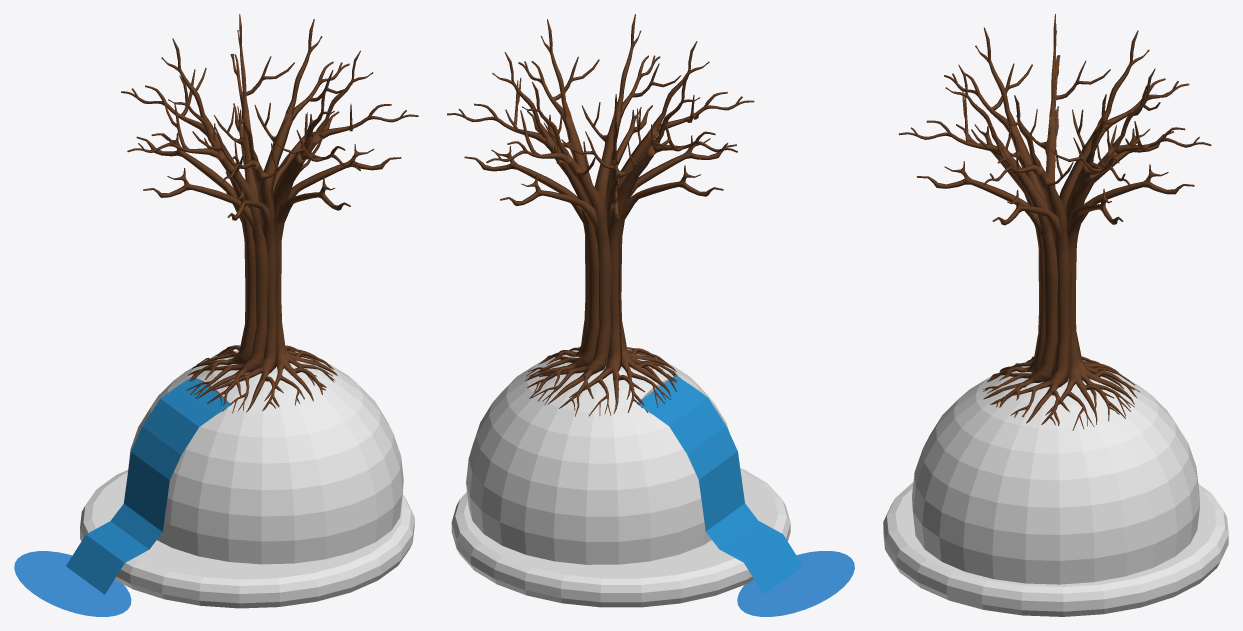
The model's file is Tree.fbx.
The picture shows the model from 3 angles, left to right: view 1: azimuth 30°, elevation 25°; view 2: azimuth 150°, elevation 25°; view 3: azimuth 270°, elevation 25°; orthographic projection. The views are drawn at different scales.
Parts seen in each view (by area): view 1: Sphere, Plane.002, Sphere.001, Plane.004, Circle; view 2: Sphere, Plane.002, Sphere.001, Plane.004, Circle; view 3: Sphere, Plane.002, Sphere.001.
Boxes of the visible parts, x1=… form: Sphere: x1=127, y1=350, x2=403, y2=564; Plane.002: x1=121, y1=14, x2=418, y2=413; Sphere.001: x1=80, y1=470, x2=414, y2=608; Plane.004: x1=66, y1=377, x2=231, y2=594; Circle: x1=14, y1=551, x2=131, y2=616; Sphere: x1=466, y1=349, x2=729, y2=564; Plane.002: x1=447, y1=14, x2=754, y2=416; Sphere.001: x1=451, y1=468, x2=790, y2=607; Plane.004: x1=636, y1=375, x2=802, y2=594; Circle: x1=737, y1=551, x2=854, y2=616; Sphere: x1=912, y1=366, x2=1199, y2=584; Plane.002: x1=898, y1=14, x2=1211, y2=430; Sphere.001: x1=883, y1=482, x2=1228, y2=616.
Size of the model in its own units: 6.87 by 8.81 by 5.52.
